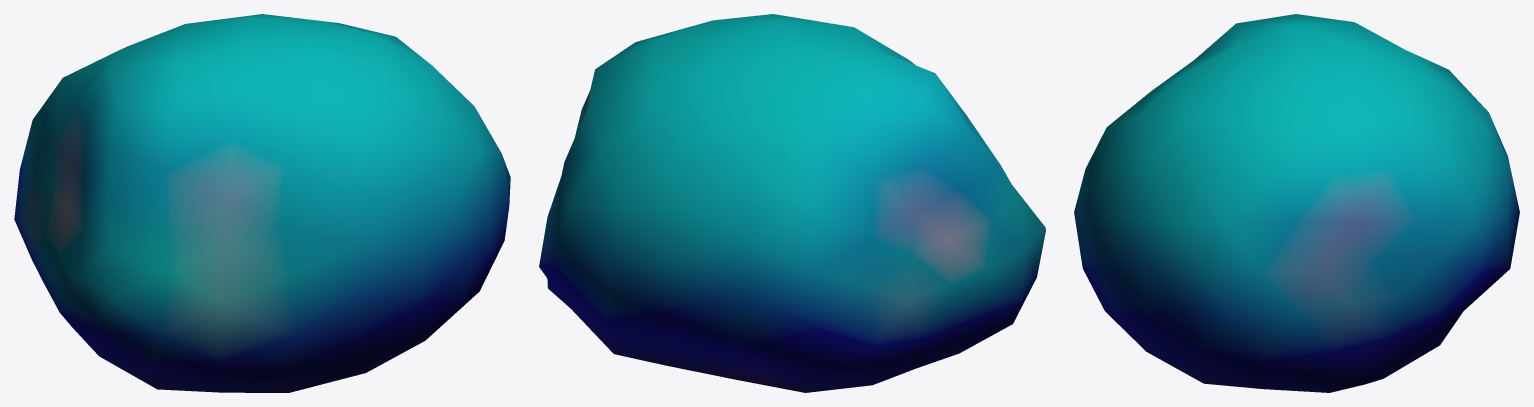
The model's file is RockAngular_3_lod1.glb.
The picture shows the model from 3 angles, left to right: view 1: azimuth 30°, elevation 25°; view 2: azimuth 150°, elevation 25°; view 3: azimuth 270°, elevation 25°; orthographic projection. The views are drawn at different scales.
Parts seen in each view (by area): view 1: RockAngular_3_lod1; view 2: RockAngular_3_lod1; view 3: RockAngular_3_lod1.
Boxes of the visible parts, x1=… form: RockAngular_3_lod1: x1=14, y1=14, x2=510, y2=392; RockAngular_3_lod1: x1=539, y1=14, x2=1045, y2=392; RockAngular_3_lod1: x1=1074, y1=14, x2=1519, y2=392.
Bounding box in the file's own units: 2.17 × 1.36 × 2.01.
